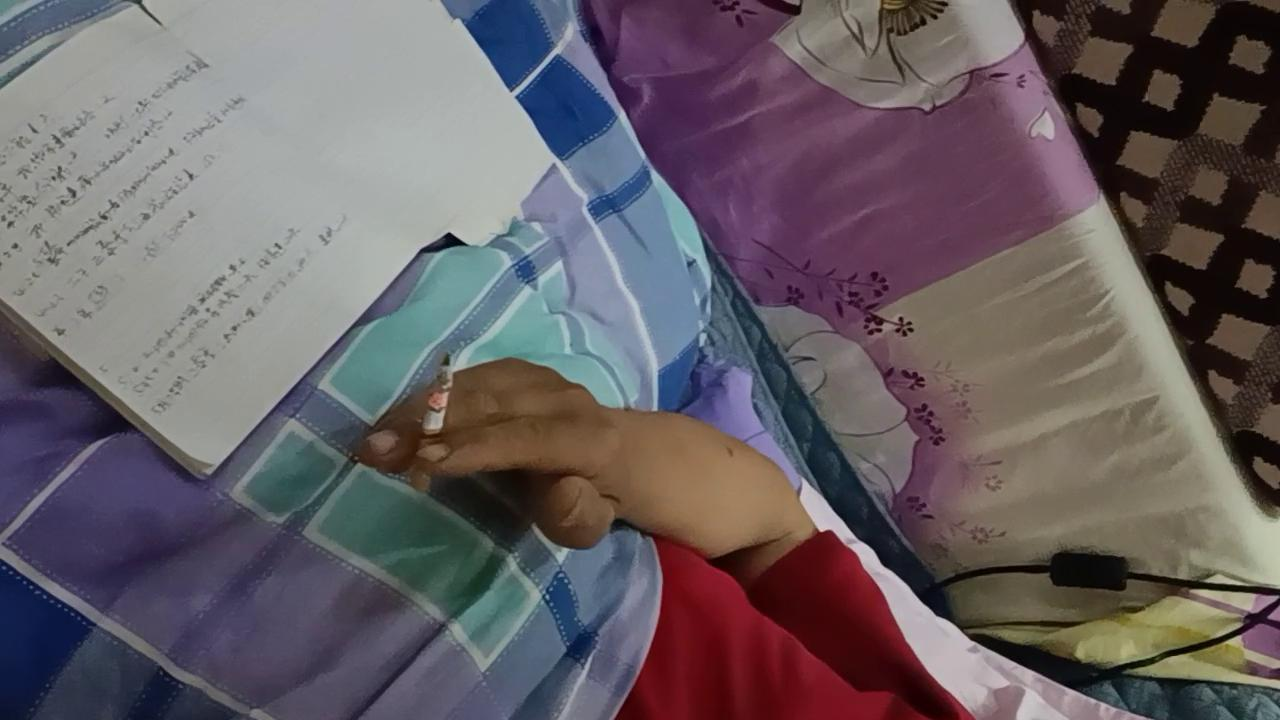smoke: (408, 352, 454, 491)
